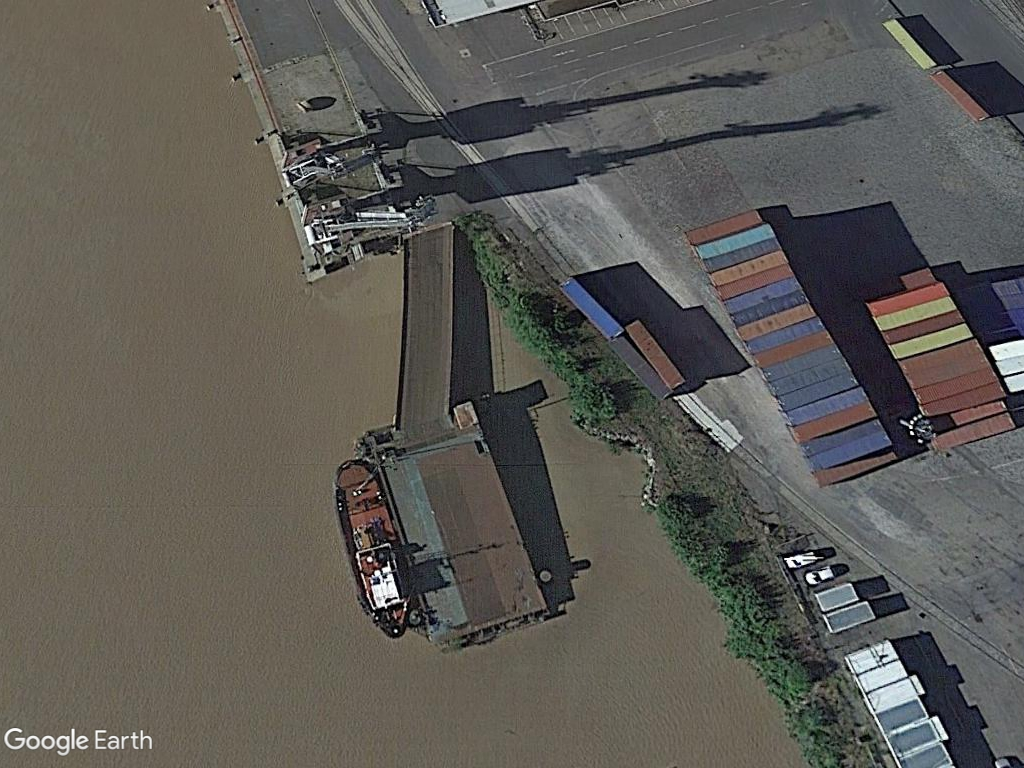boat: (325, 456, 417, 642)
